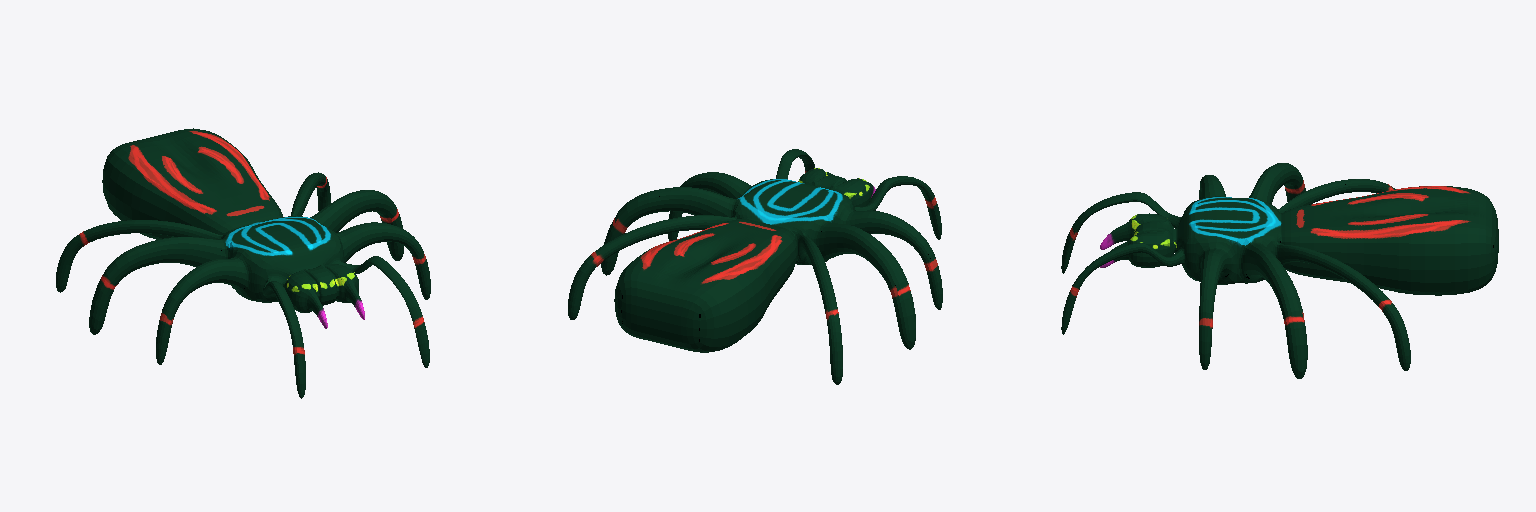
3 renders of one model, left to right at view 1: azimuth 30°, elevation 25°; view 2: azimuth 150°, elevation 25°; view 3: azimuth 270°, elevation 25°, orthographic.
Visible parts, largest first — view 1: spider_Cube.002; view 2: spider_Cube.002; view 3: spider_Cube.002.
Boxes of the visible parts, box(x1,y1,x2,y2) form: spider_Cube.002: box(56, 128, 430, 398); spider_Cube.002: box(568, 149, 942, 384); spider_Cube.002: box(1061, 163, 1498, 378).
Size of the model in its own units: 0.6772 by 0.2089 by 0.8187.
1 materials, 1 textured.